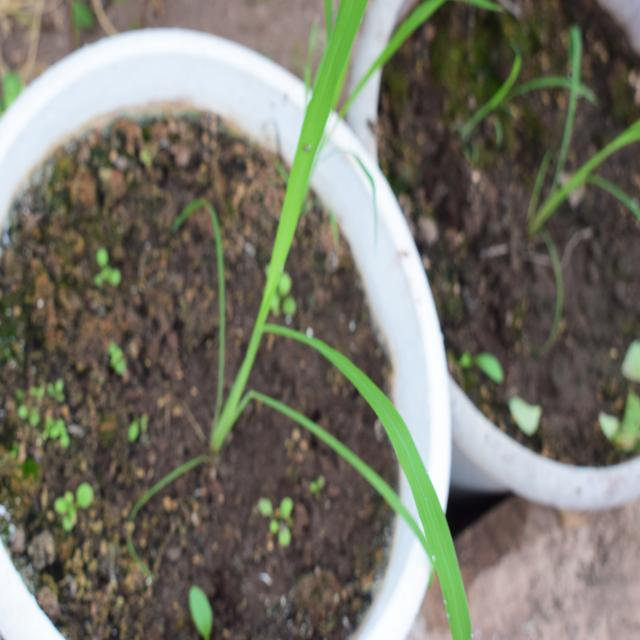barnyard_grass: (223, 49, 478, 603)
